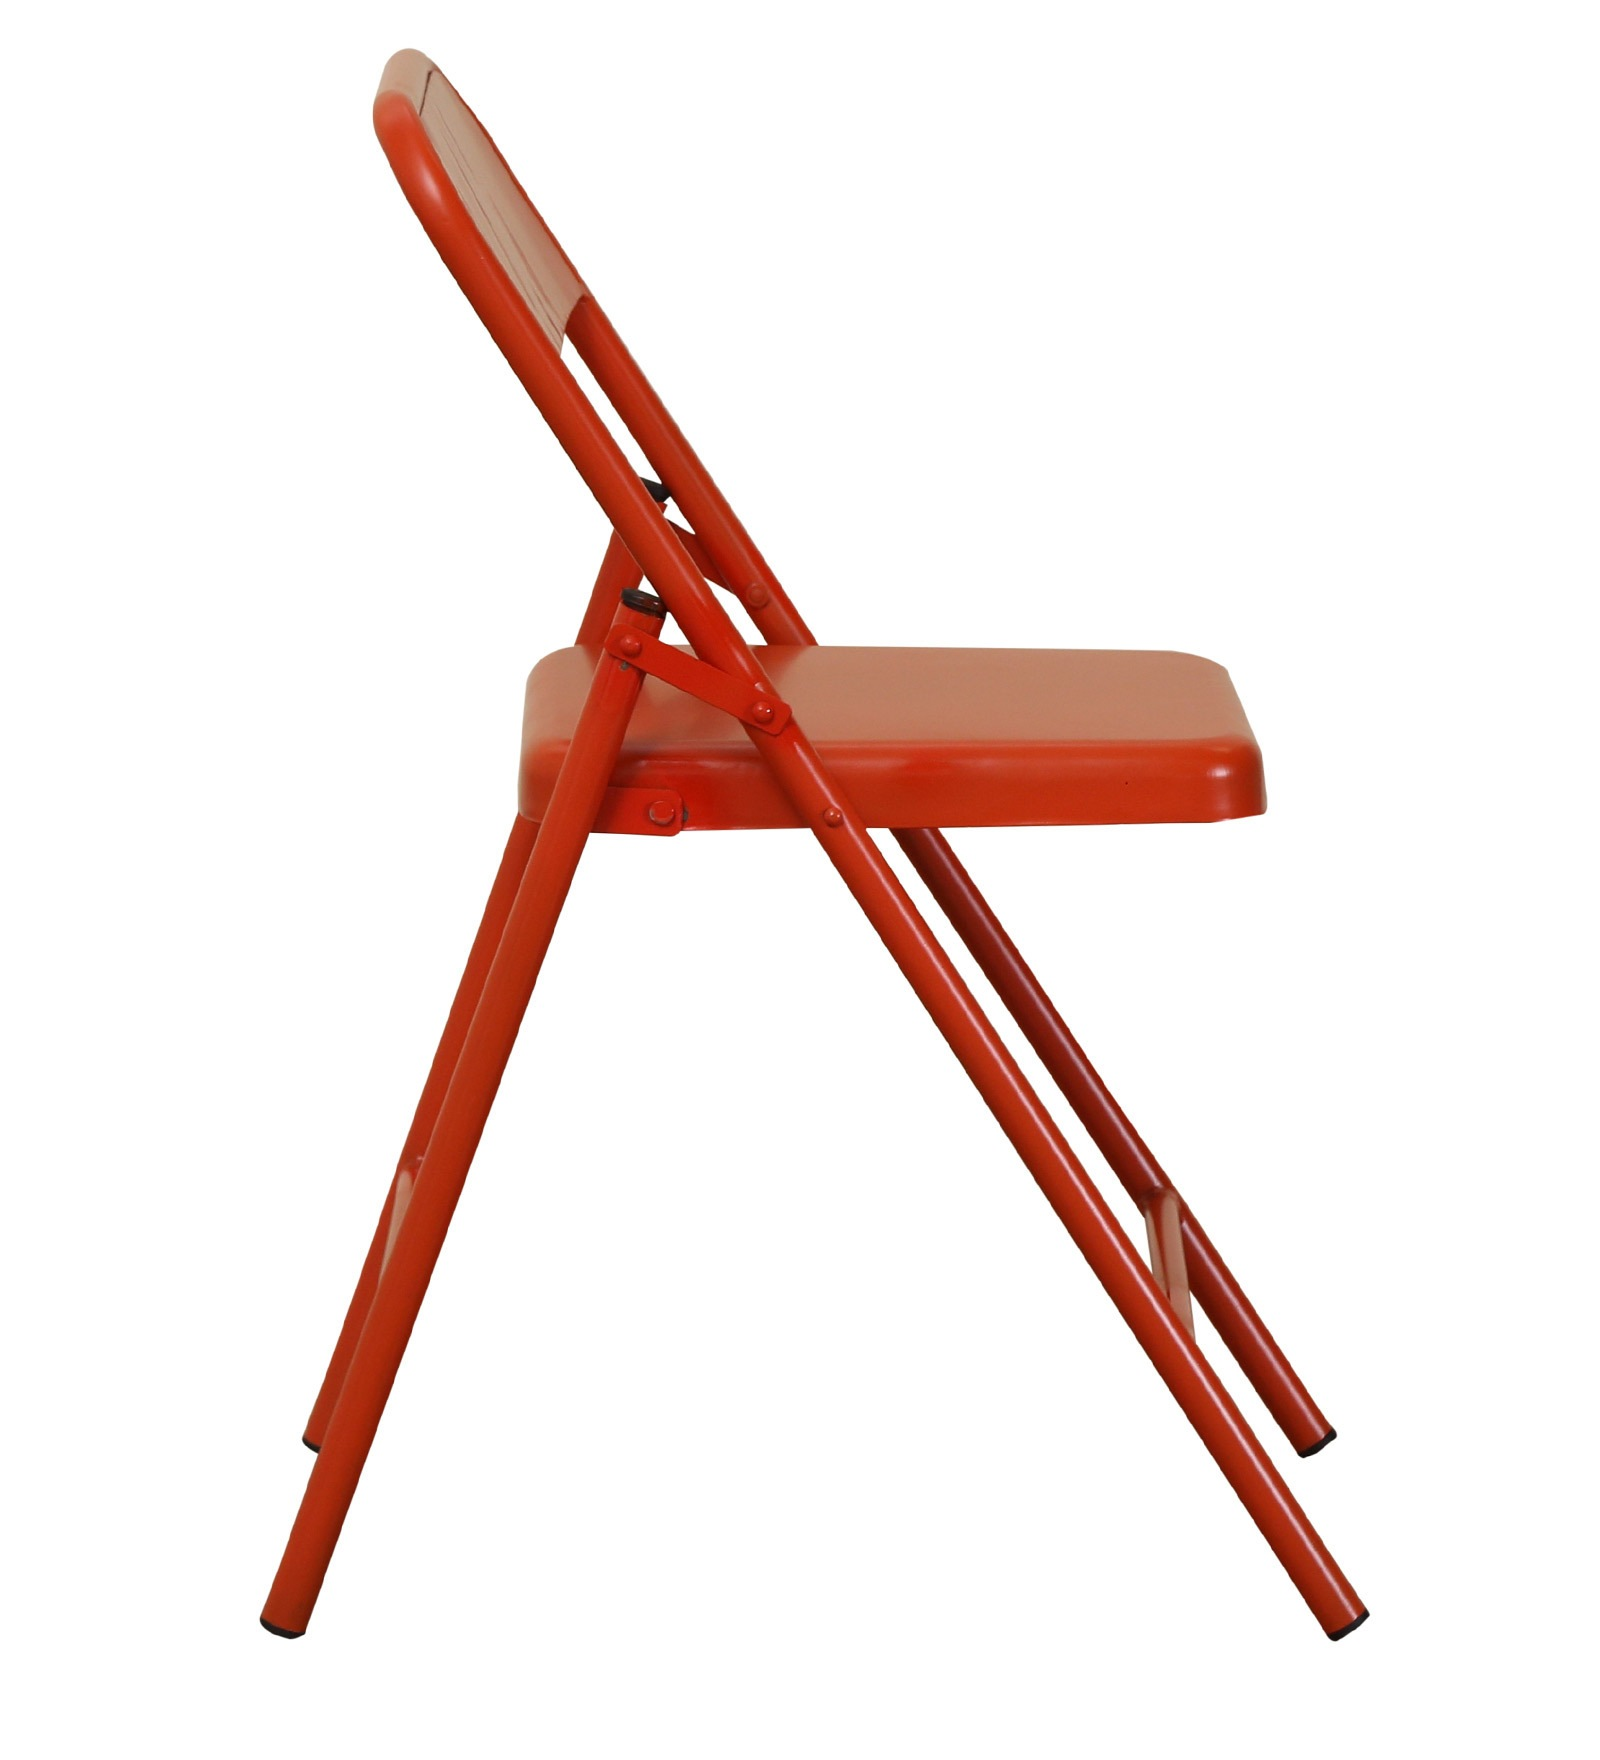Kell Folding Chair (Set of 2) in Orange Color by Bohemiana: (204, 31, 1479, 1699)
